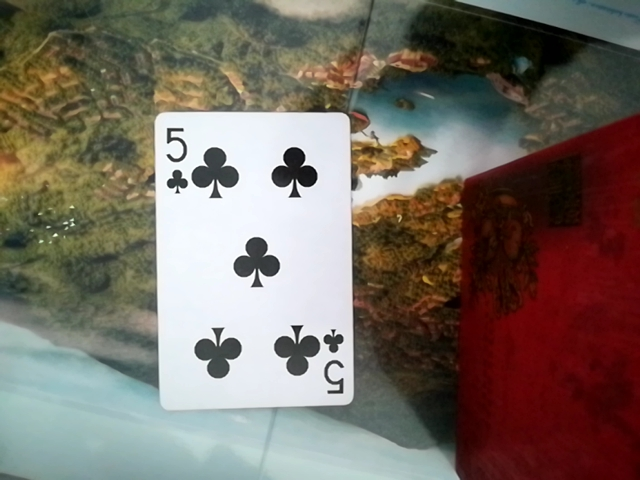mh 5: (156, 113, 357, 410)
